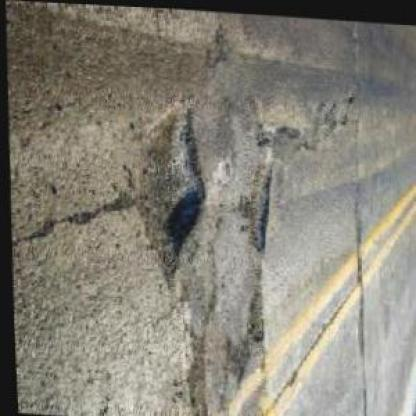pothole: (126, 93, 208, 284), (241, 157, 273, 255), (241, 280, 265, 344)
